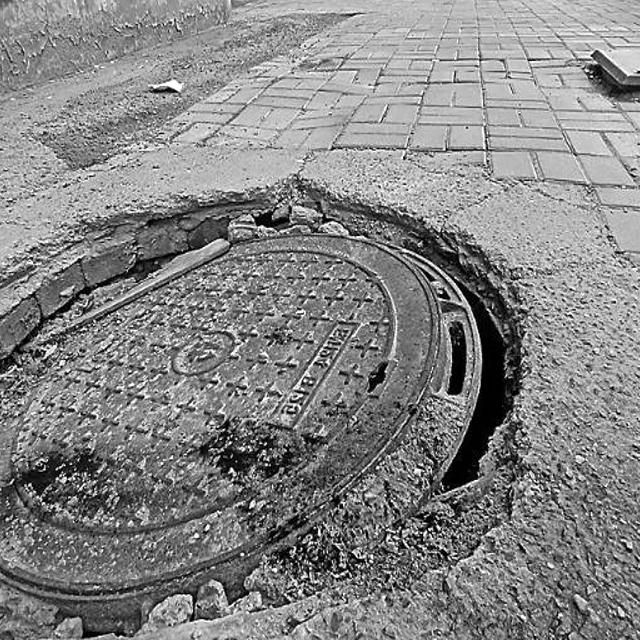circle: (0, 149, 556, 640)
